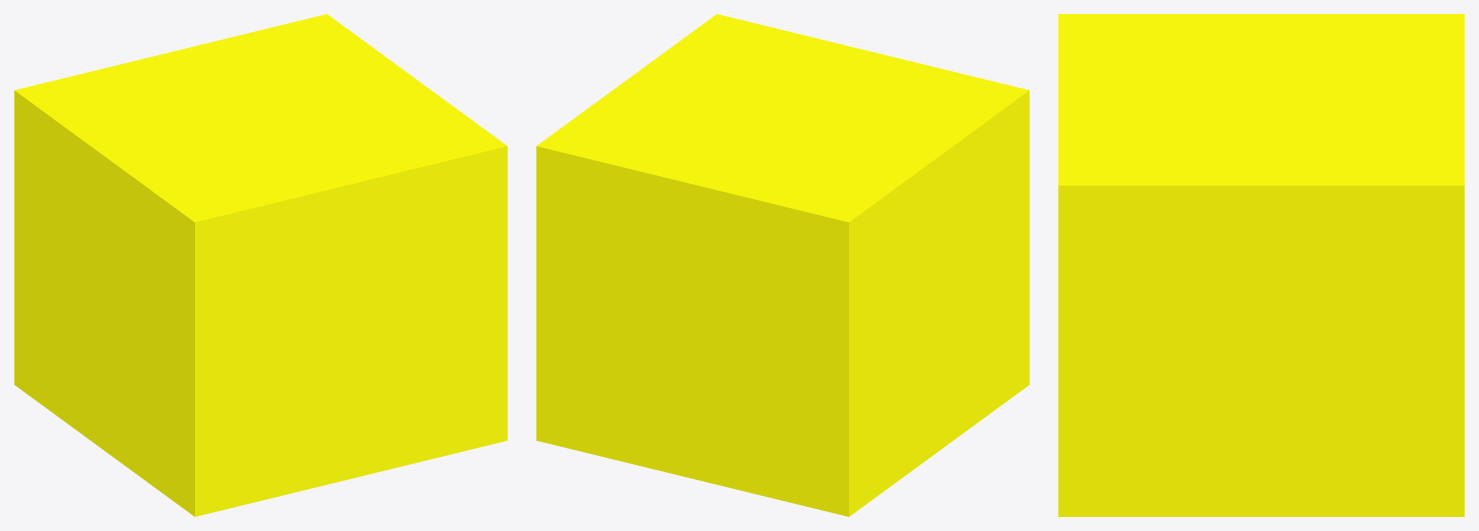
The model's file is 建筑构件_泥地.glb.
3 renders of one model, left to right at view 1: azimuth 30°, elevation 25°; view 2: azimuth 150°, elevation 25°; view 3: azimuth 270°, elevation 25°, orthographic. The views are drawn at different scales.
Parts seen in each view (by area): view 1: dirt; view 2: dirt; view 3: dirt.
Boxes of the visible parts, x1,y1,x2,y2 form: dirt: [14, 14, 507, 516]; dirt: [536, 14, 1029, 516]; dirt: [1058, 14, 1464, 516].
Size of the model in its own units: 1 by 0.9 by 1.
Materials: 1 (1 with a texture image).
